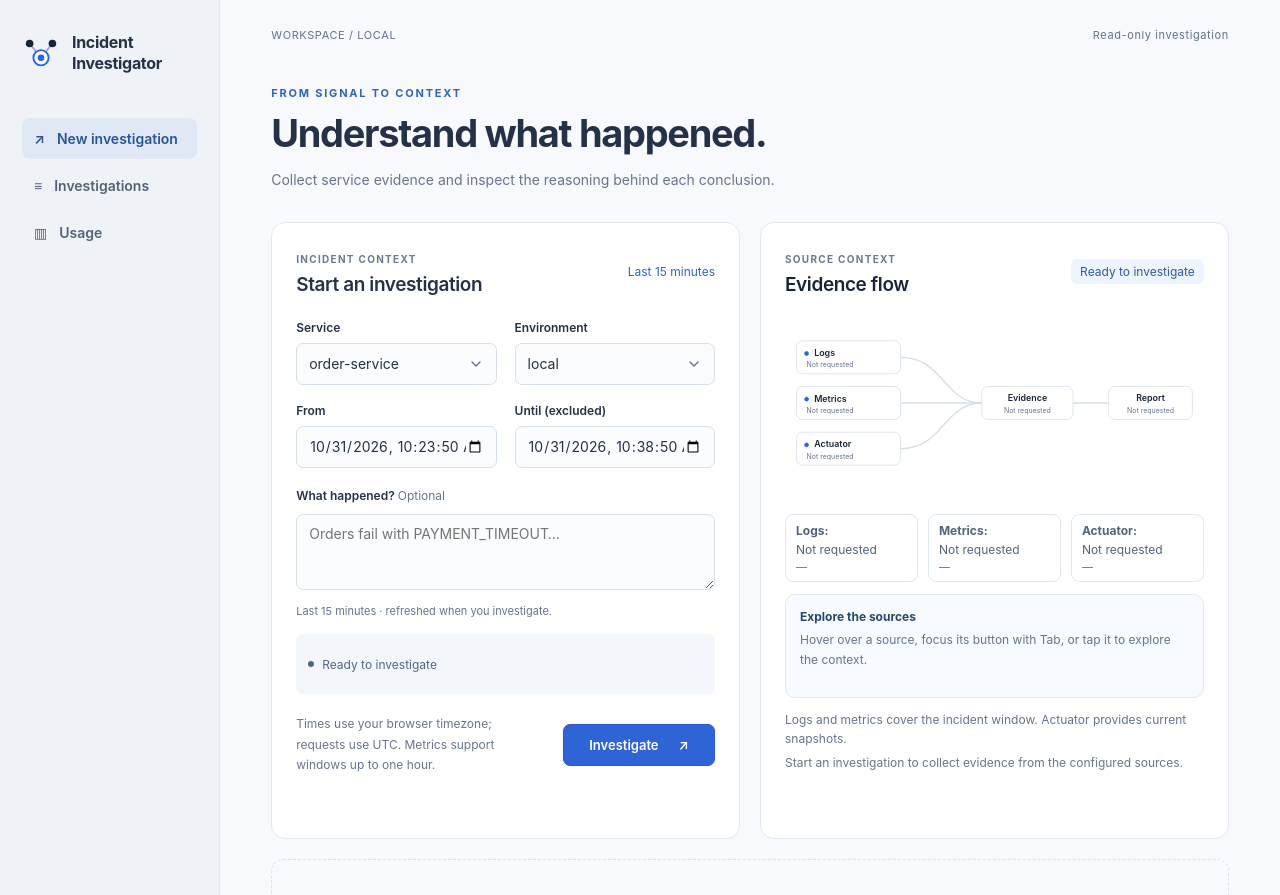
Test: investigation workspace › shows a fast response in the evidence flow, with real counts and a visible request status
Click the button "Investigate ↗" at (639, 745), box [563, 724, 715, 766]
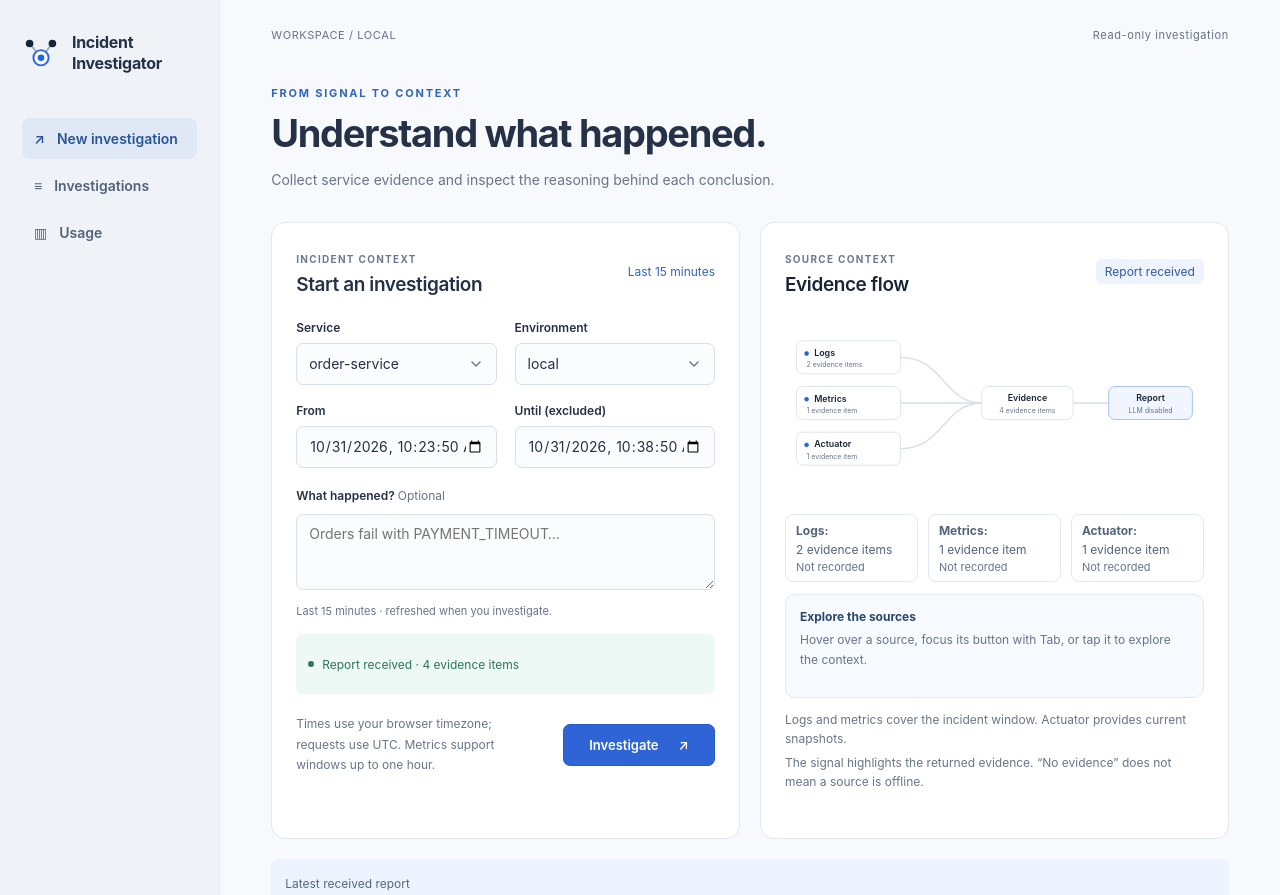
Expected: the message "Report received · 4 evidence items" is shown, [322, 657, 519, 672]
